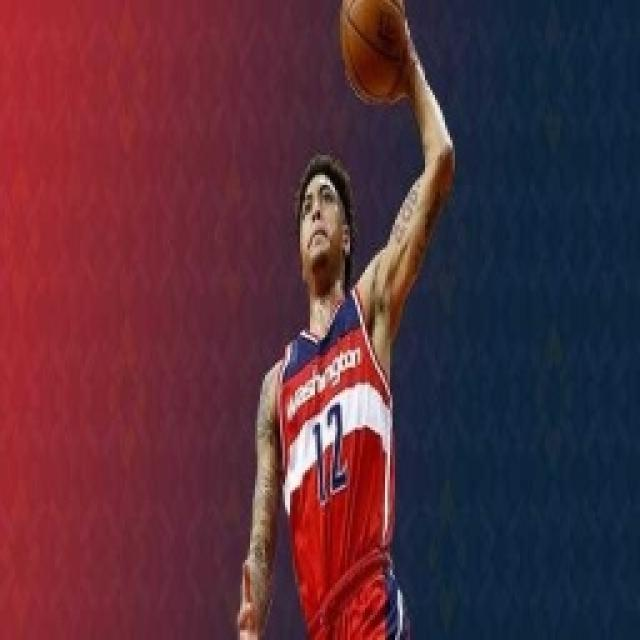rim: (333, 0, 416, 111)
